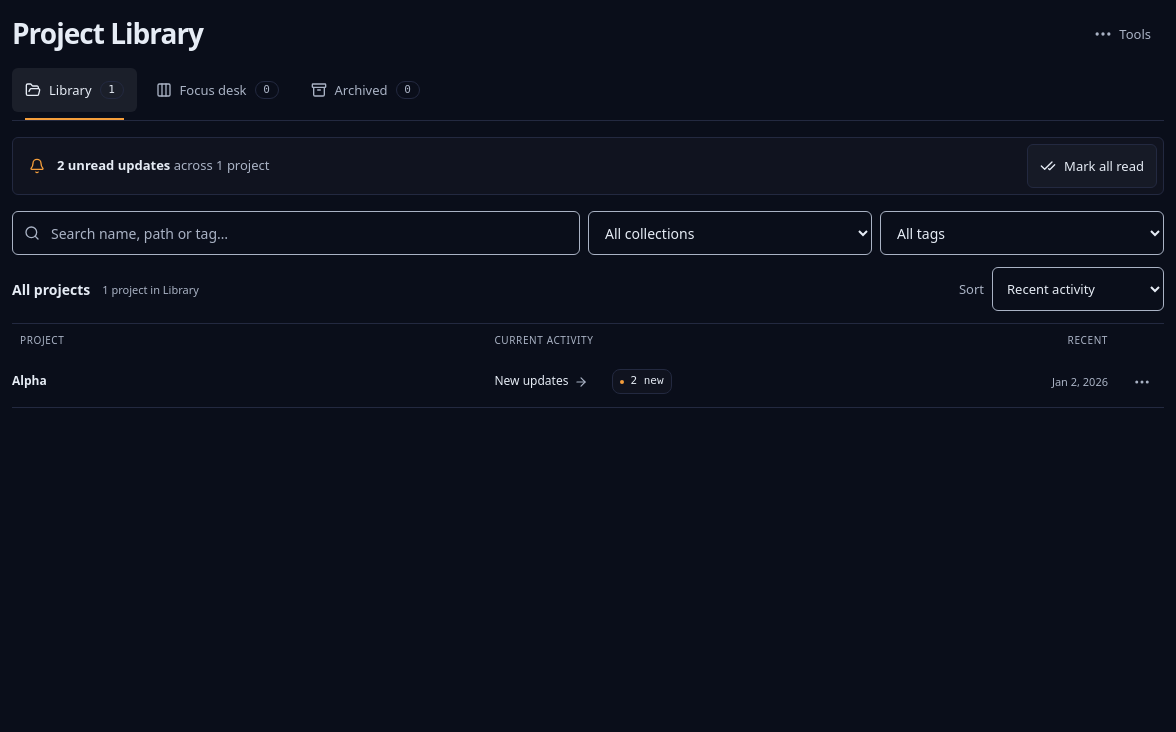
Scenario: sorts beside the index even with no matches, with updates beside activity instead of an empty column
Expected: the element showing "Project Current activity Recent" does not show "Updates", [20, 333, 1108, 347]
Type "Missing" into the search field named "Search projects" at (296, 233), box [12, 211, 580, 255]
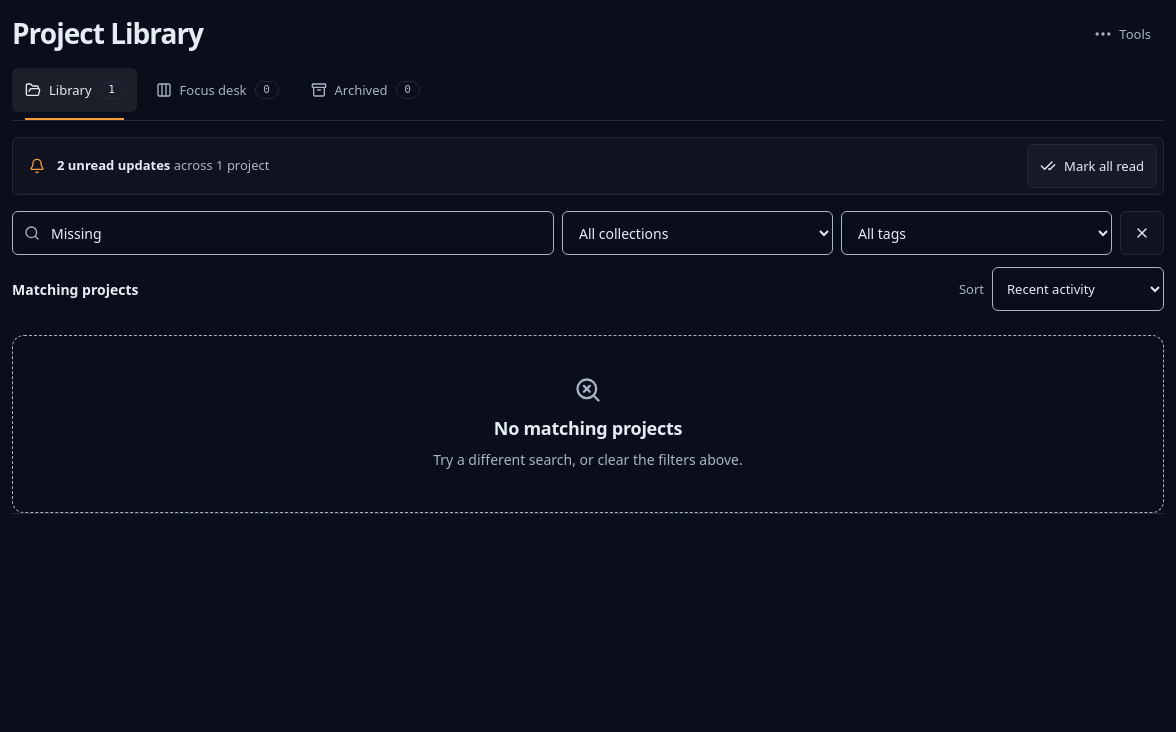
Expected: the dropdown named "Sort projects" is shown, [992, 267, 1164, 311]
Expected: the heading "Matching projects" is shown, [12, 280, 138, 298]
